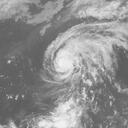cyclone: (43, 44, 77, 82)
